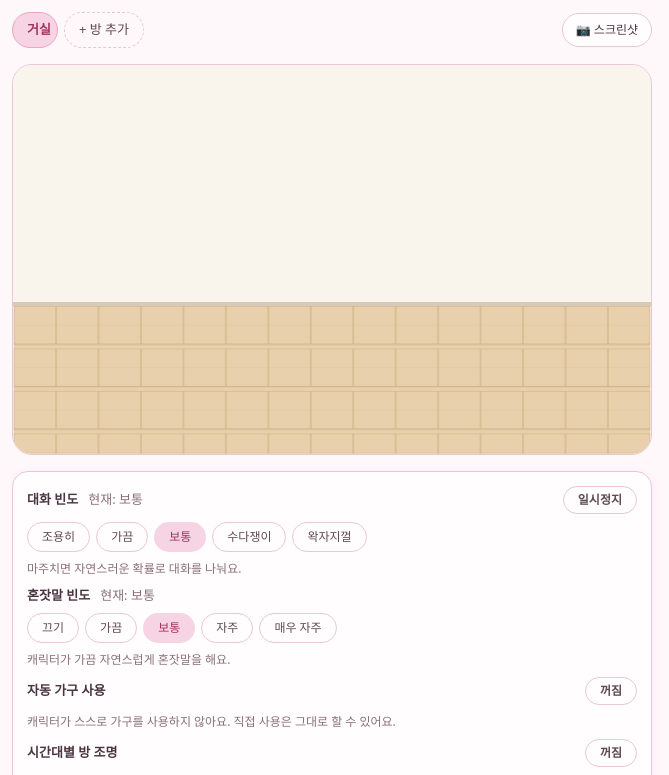
Scenario: LiveScreen › shows all 5 dialogue frequency modes and switches the mode immediately on click
expect the button "조용히" is shown: met, box [27,522,90,552]
expect the 1st button "가끔" is shown: met, box [96,522,148,552]
Click the button "왁자지껄". click: (330, 537)
box: [292,522,367,552]
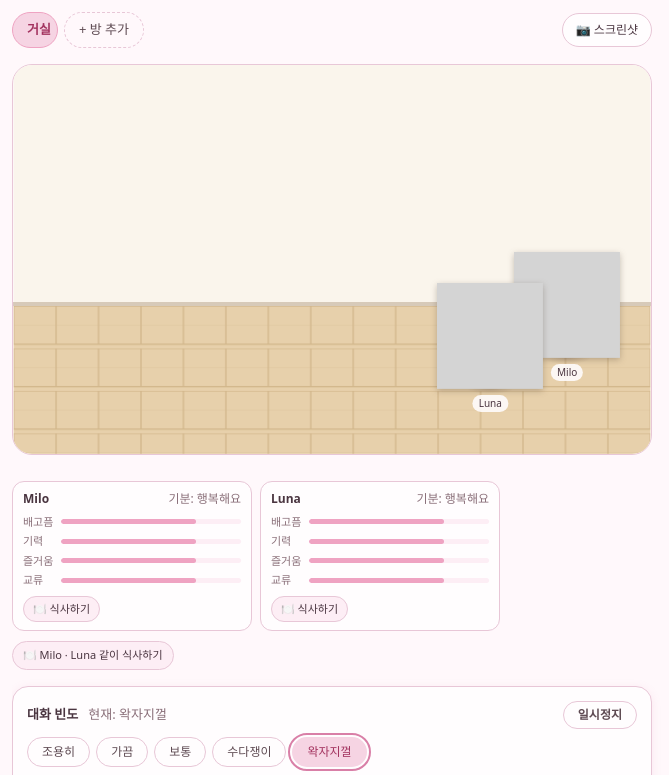
expect the text "현재: 왁자지껄" is shown: met, box [88,705,167,724]
